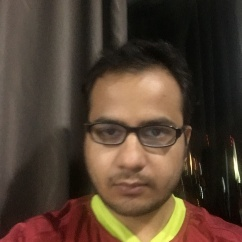glasses: (82, 120, 183, 148)
